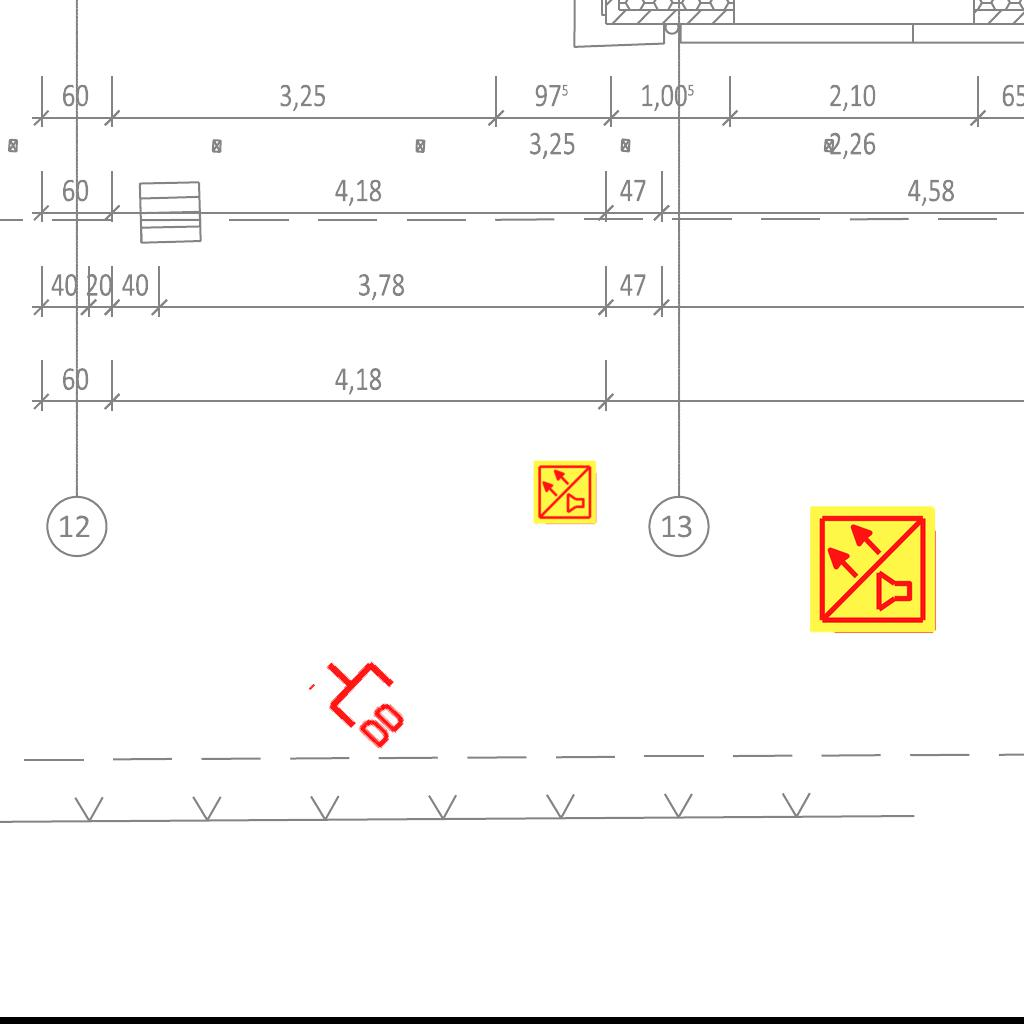Datenanschluss_zweifach: (304, 636, 427, 757)
OKW_Multisensormelder_(Kombination_optischer_Rauch-Kahlenmonoxid_Waerme-Melder): (807, 503, 939, 635), (532, 459, 598, 525)
